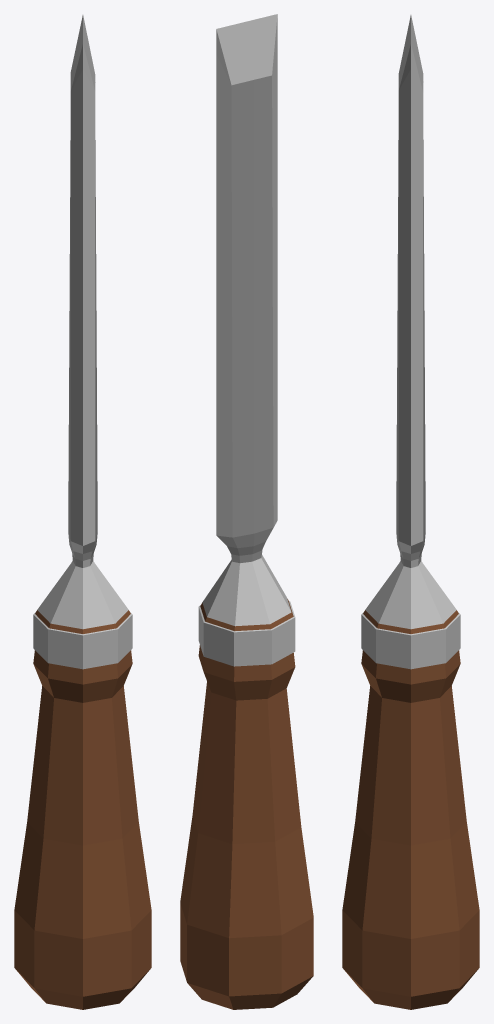
The model's file is chisel02.gltf.
3 views of the same model, side by side, from view 1: azimuth 90°, elevation 25°; view 2: azimuth 210°, elevation 25°; view 3: azimuth 270°, elevation 25° (orthographic).
Parts seen in each view (by area): view 1: Cylinder; view 2: Cylinder; view 3: Cylinder.
Part boxes in pixels (x1,y1,x2,y2): Cylinder: (14, 15, 151, 1009); Cylinder: (180, 14, 313, 1009); Cylinder: (342, 15, 479, 1009).
Size of the model in its own units: 0.0276 by 0.2132 by 0.0276.
Materials: 1 (1 with a texture image).
